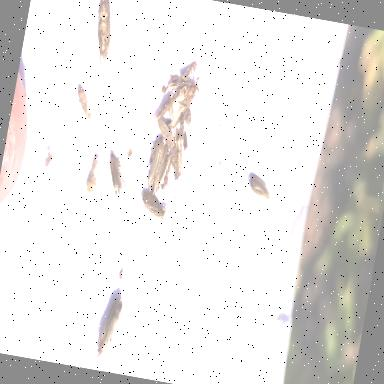pbw: (84, 0, 122, 88), (88, 292, 124, 368), (160, 71, 202, 134), (102, 150, 133, 203), (144, 137, 166, 195), (168, 127, 190, 182), (150, 145, 173, 197), (71, 84, 97, 124), (138, 189, 170, 221), (152, 118, 179, 150), (150, 94, 174, 129), (246, 174, 274, 204), (177, 117, 188, 144)
